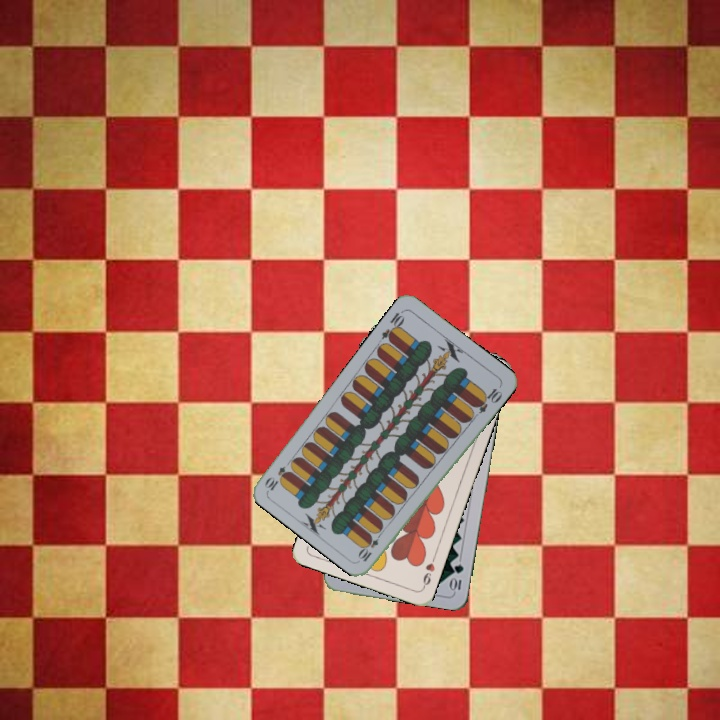E10: (377, 306, 407, 345), (355, 527, 385, 564)
G10: (447, 560, 466, 593)
H9: (419, 551, 439, 591)
